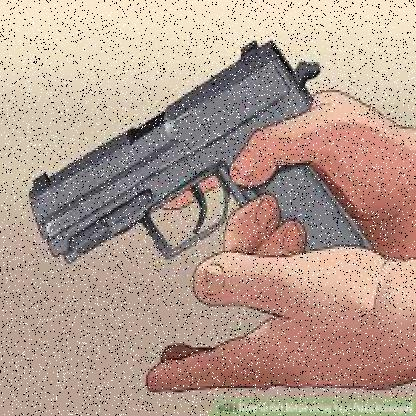pistol: (24, 17, 385, 281)
